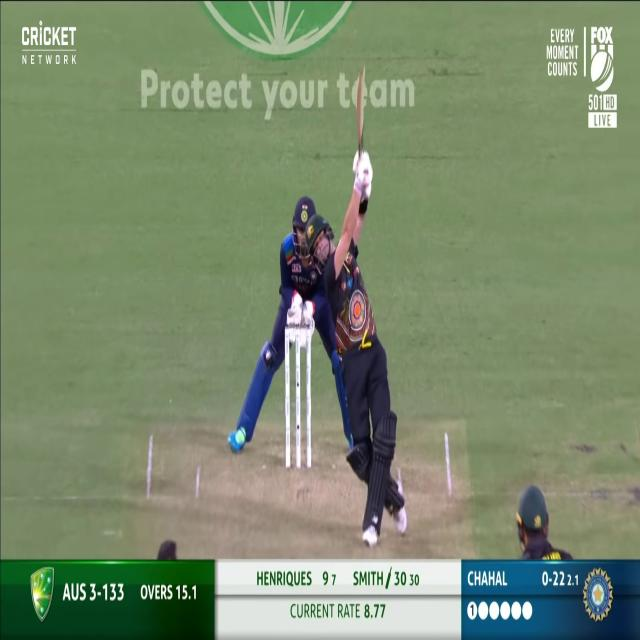stump: (284, 324, 312, 468)
